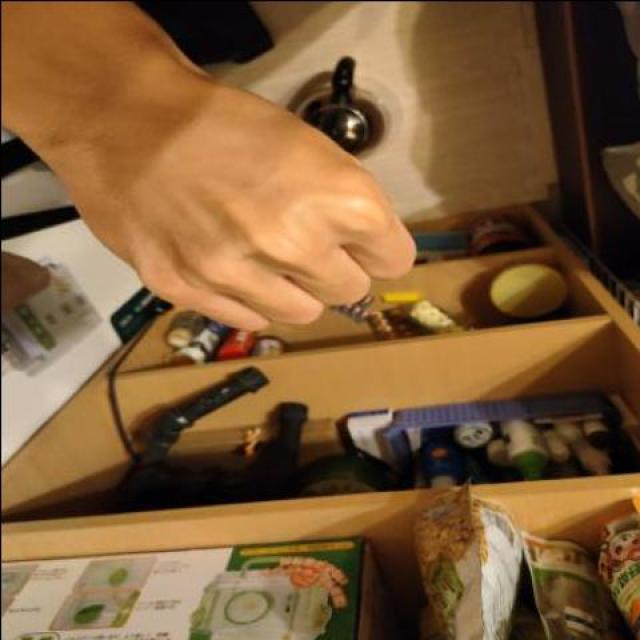Closed Hand: (50, 51, 434, 328)
